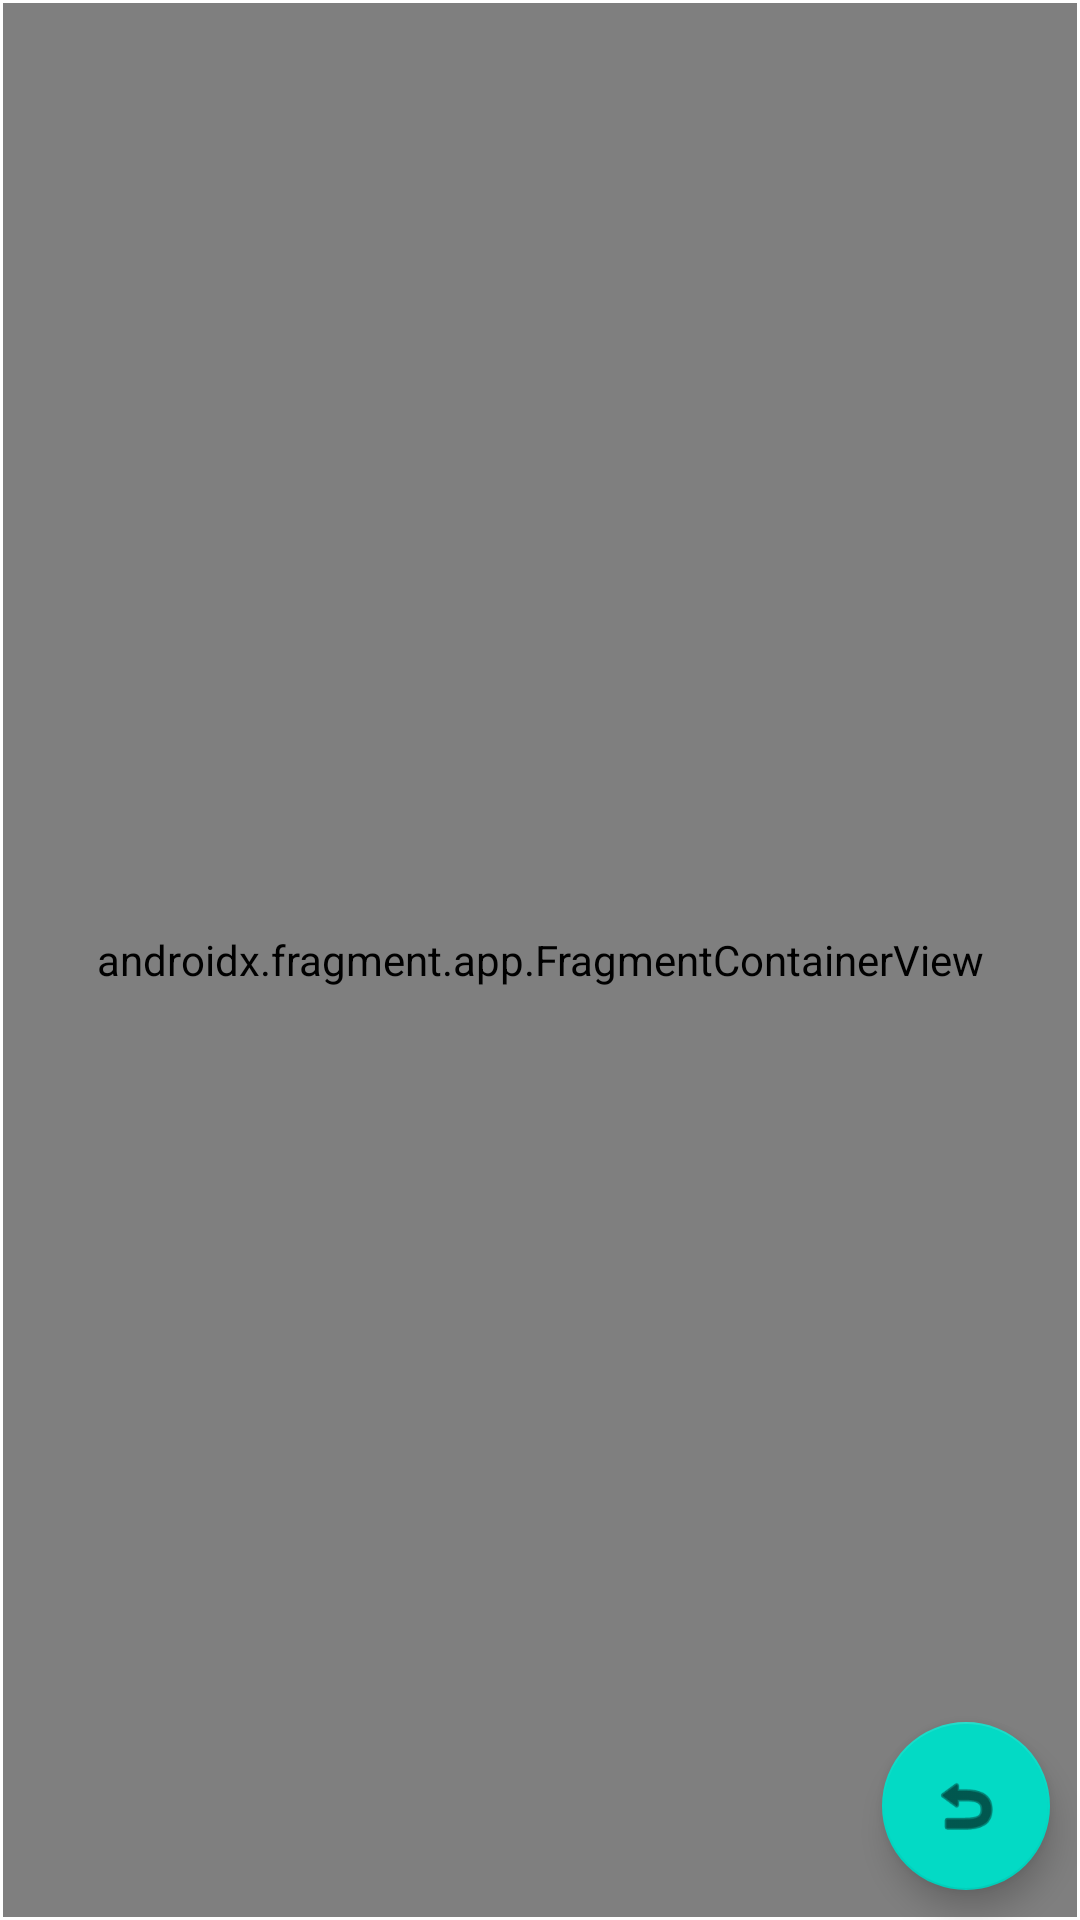

Named icons in this screenshot (1080x1920) and their bounding boxes, (x1, y1, x2, y2):
revert: (882, 1722, 1050, 1890)
